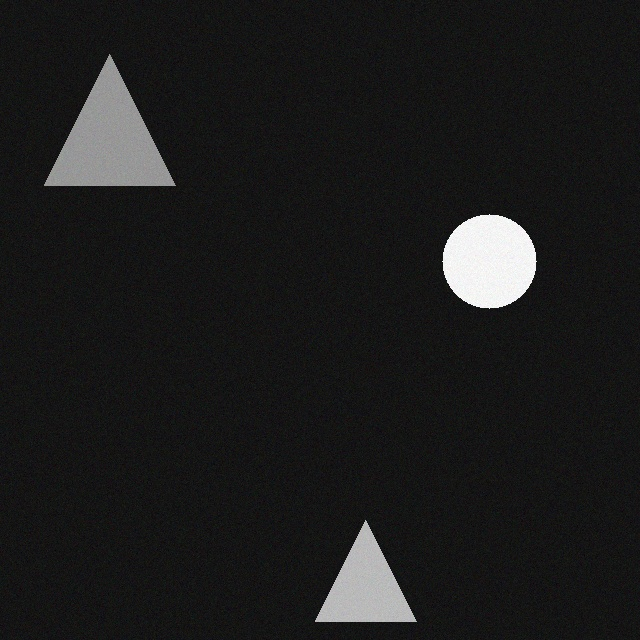circle: (429, 204, 523, 298)
triangle: (31, 44, 162, 175), (302, 510, 403, 611)
